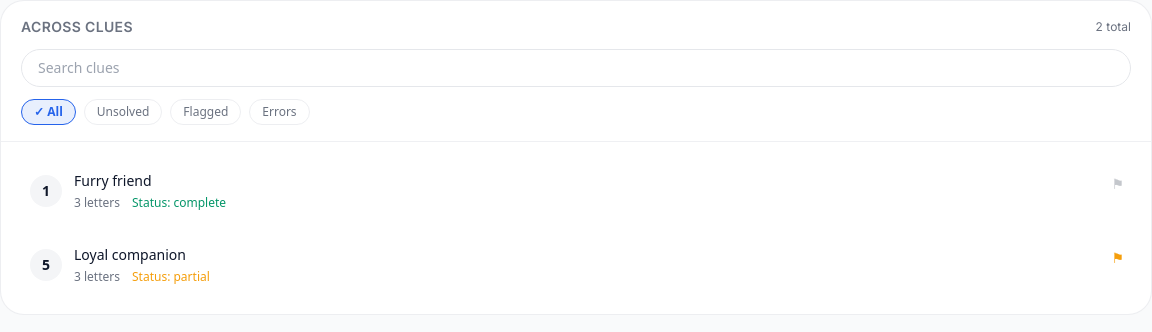
Test: ClueList preset filters (#13) › Unsolved hides fully-correct clues
Click the button "Unsolved" at (123, 112), box [84,99,162,125]
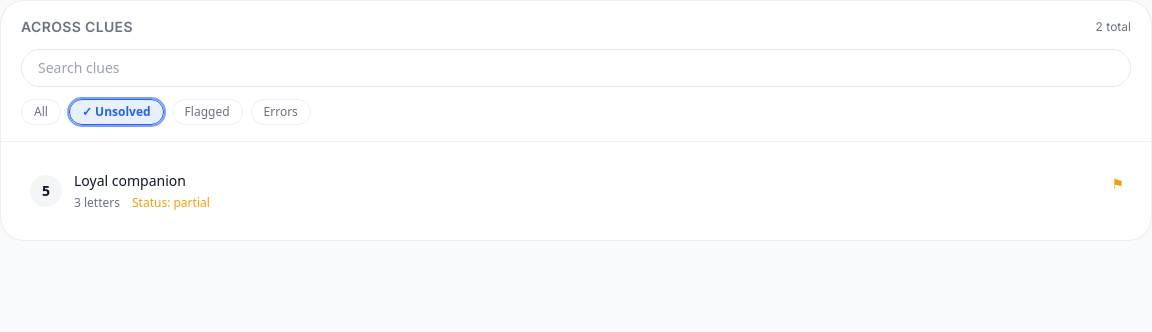
Expected: the text "Loyal companion" is shown, [74,171,186,190]
Expected: the button "Furry friend" is gone
